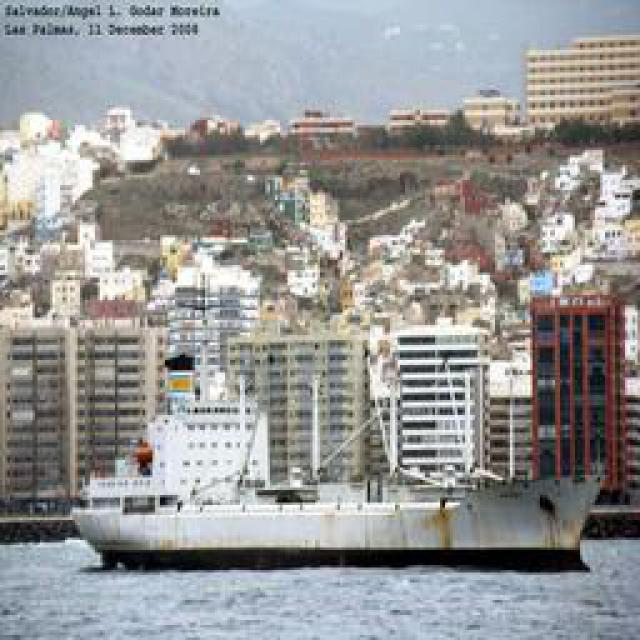Ship: (65, 397, 623, 560)
